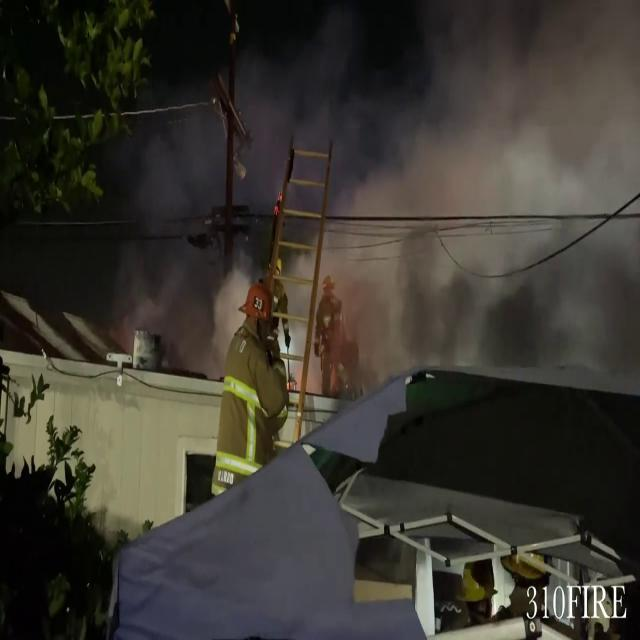Smoke: (106, 0, 640, 374), (107, 96, 246, 364)
